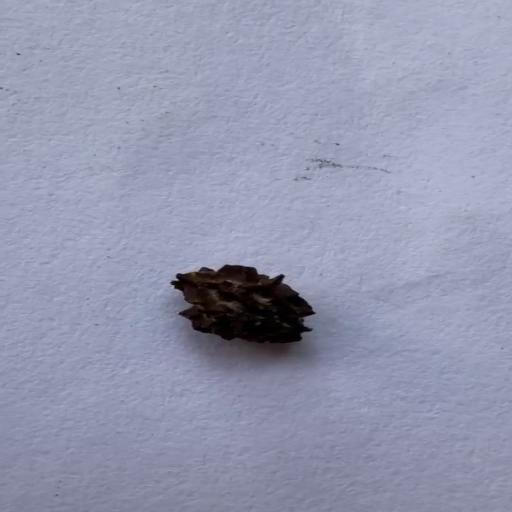papaya_seed: (163, 258, 322, 348)
